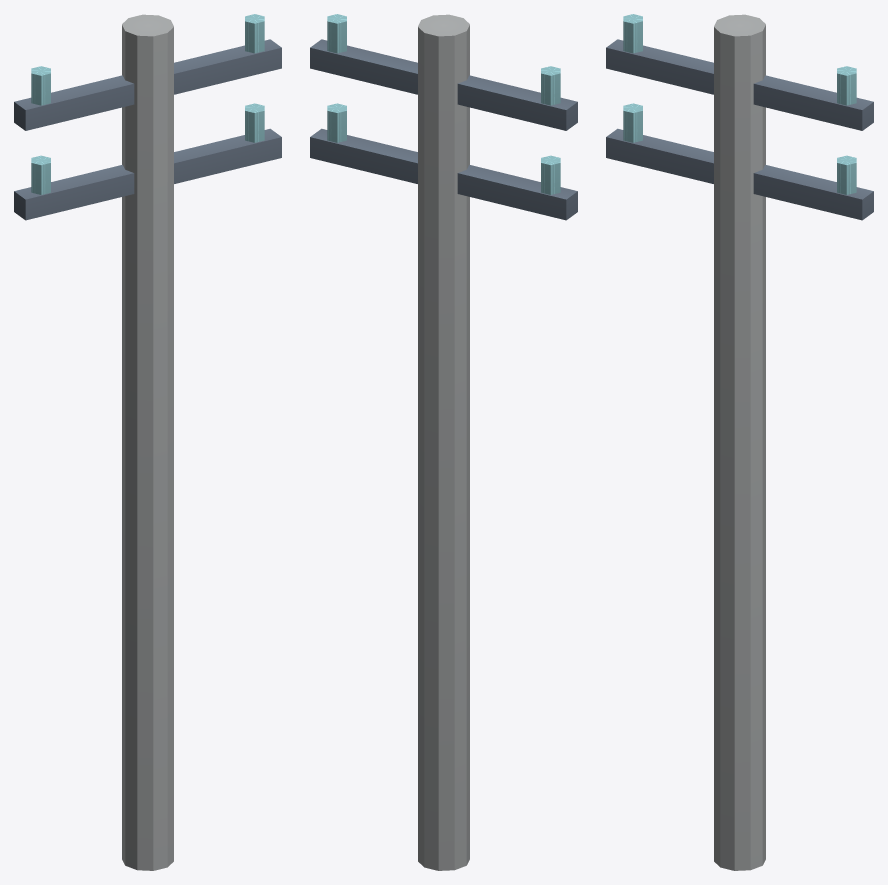
File: power_pole.glb
3 views of the same model, side by side, from view 1: azimuth 30°, elevation 25°; view 2: azimuth 150°, elevation 25°; view 3: azimuth 330°, elevation 25° (orthographic).
Parts seen in each view (by area): view 1: power_pole; view 2: power_pole; view 3: power_pole.
Part boxes in pixels (x1=…): power_pole: x1=14, y1=14, x2=281, y2=870; power_pole: x1=310, y1=14, x2=577, y2=870; power_pole: x1=606, y1=14, x2=873, y2=870.
Bounding box in the file's own units: 1.8 × 5.6 × 0.3043.
Materials: 1 (1 with a texture image).
